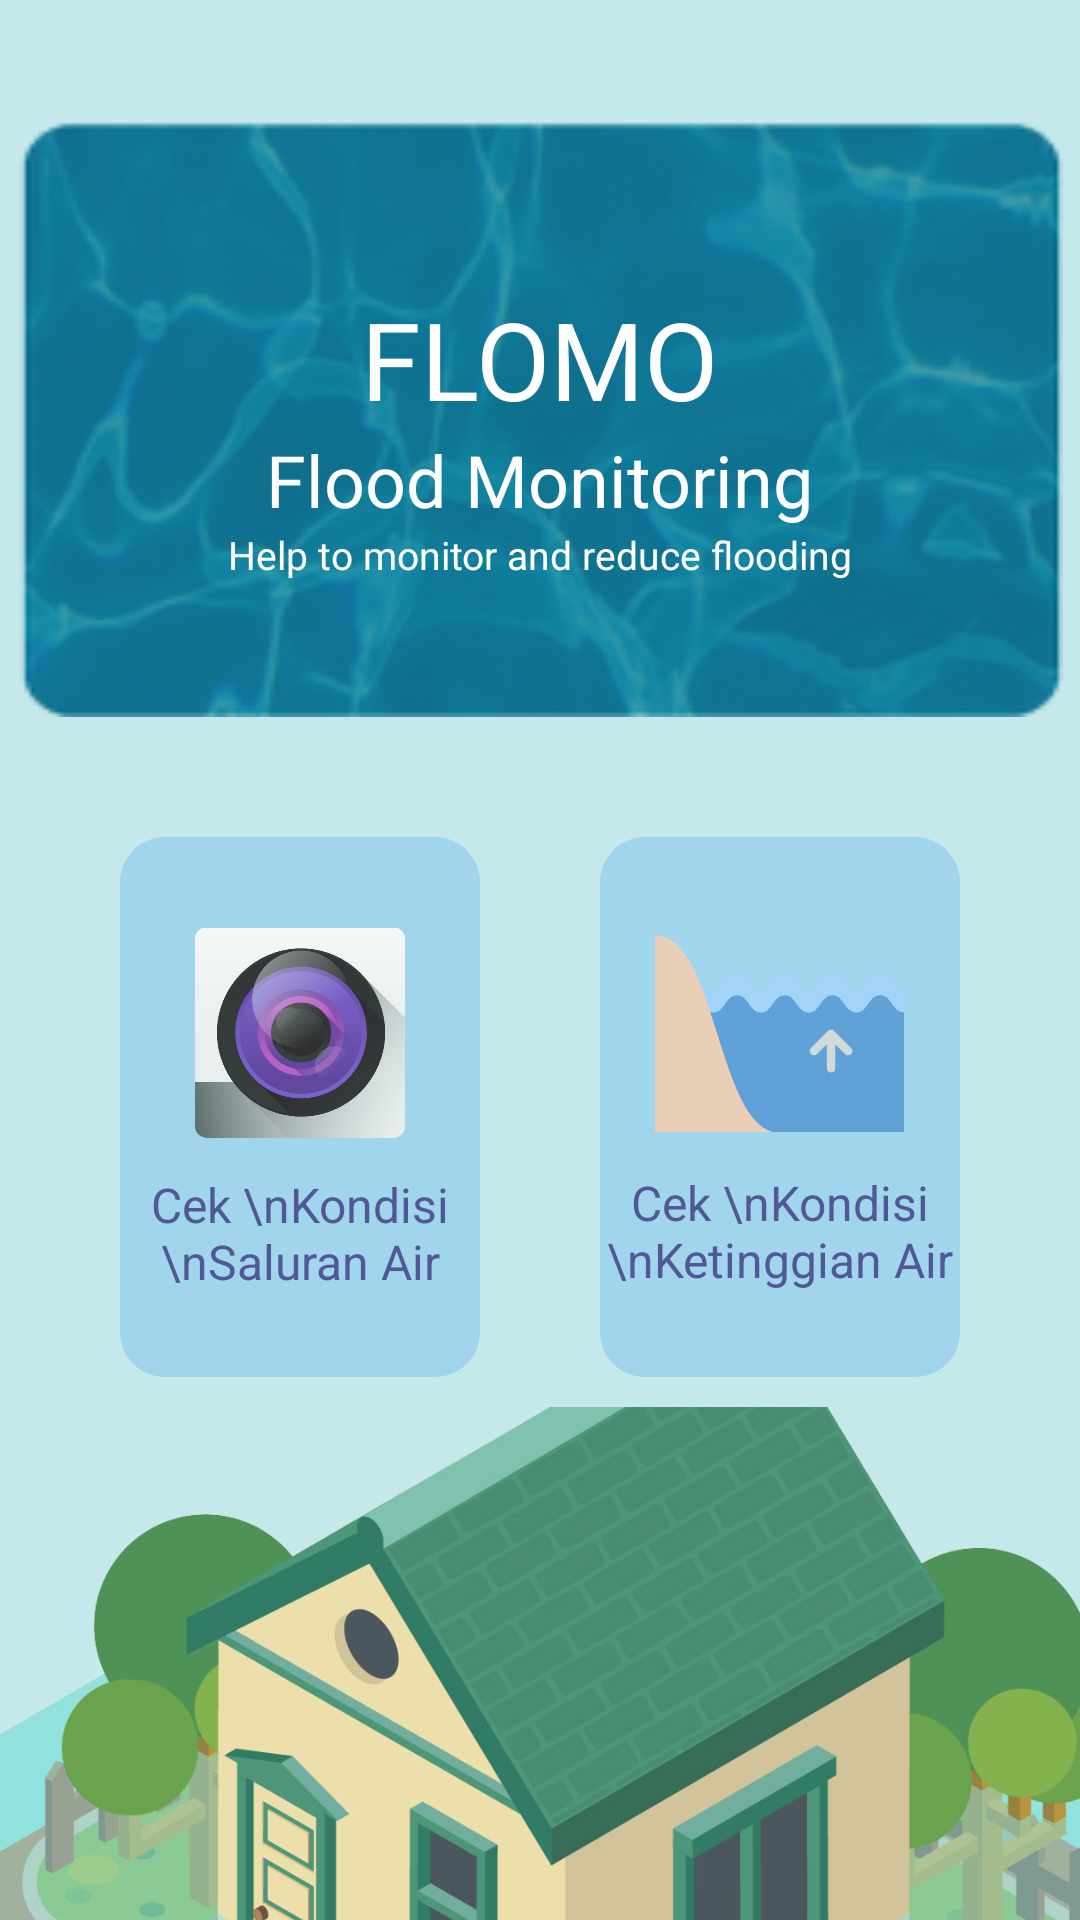

Point at icon controls on the screen. Image size 1080w x 1920h, points as [x,y].
camera: [300,1033]
